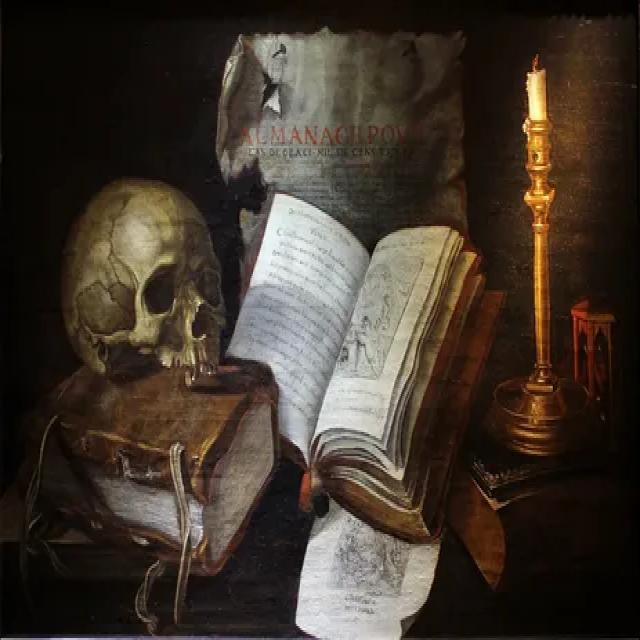book: (232, 176, 500, 556)
